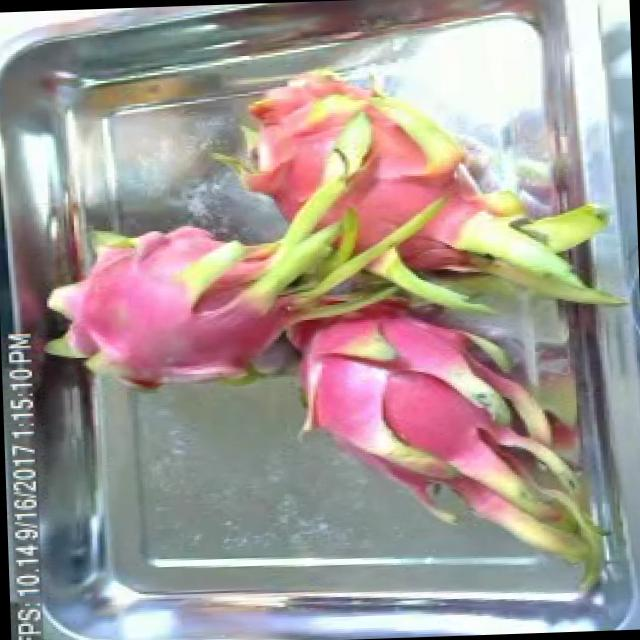Fruit: (366, 352, 516, 462)
